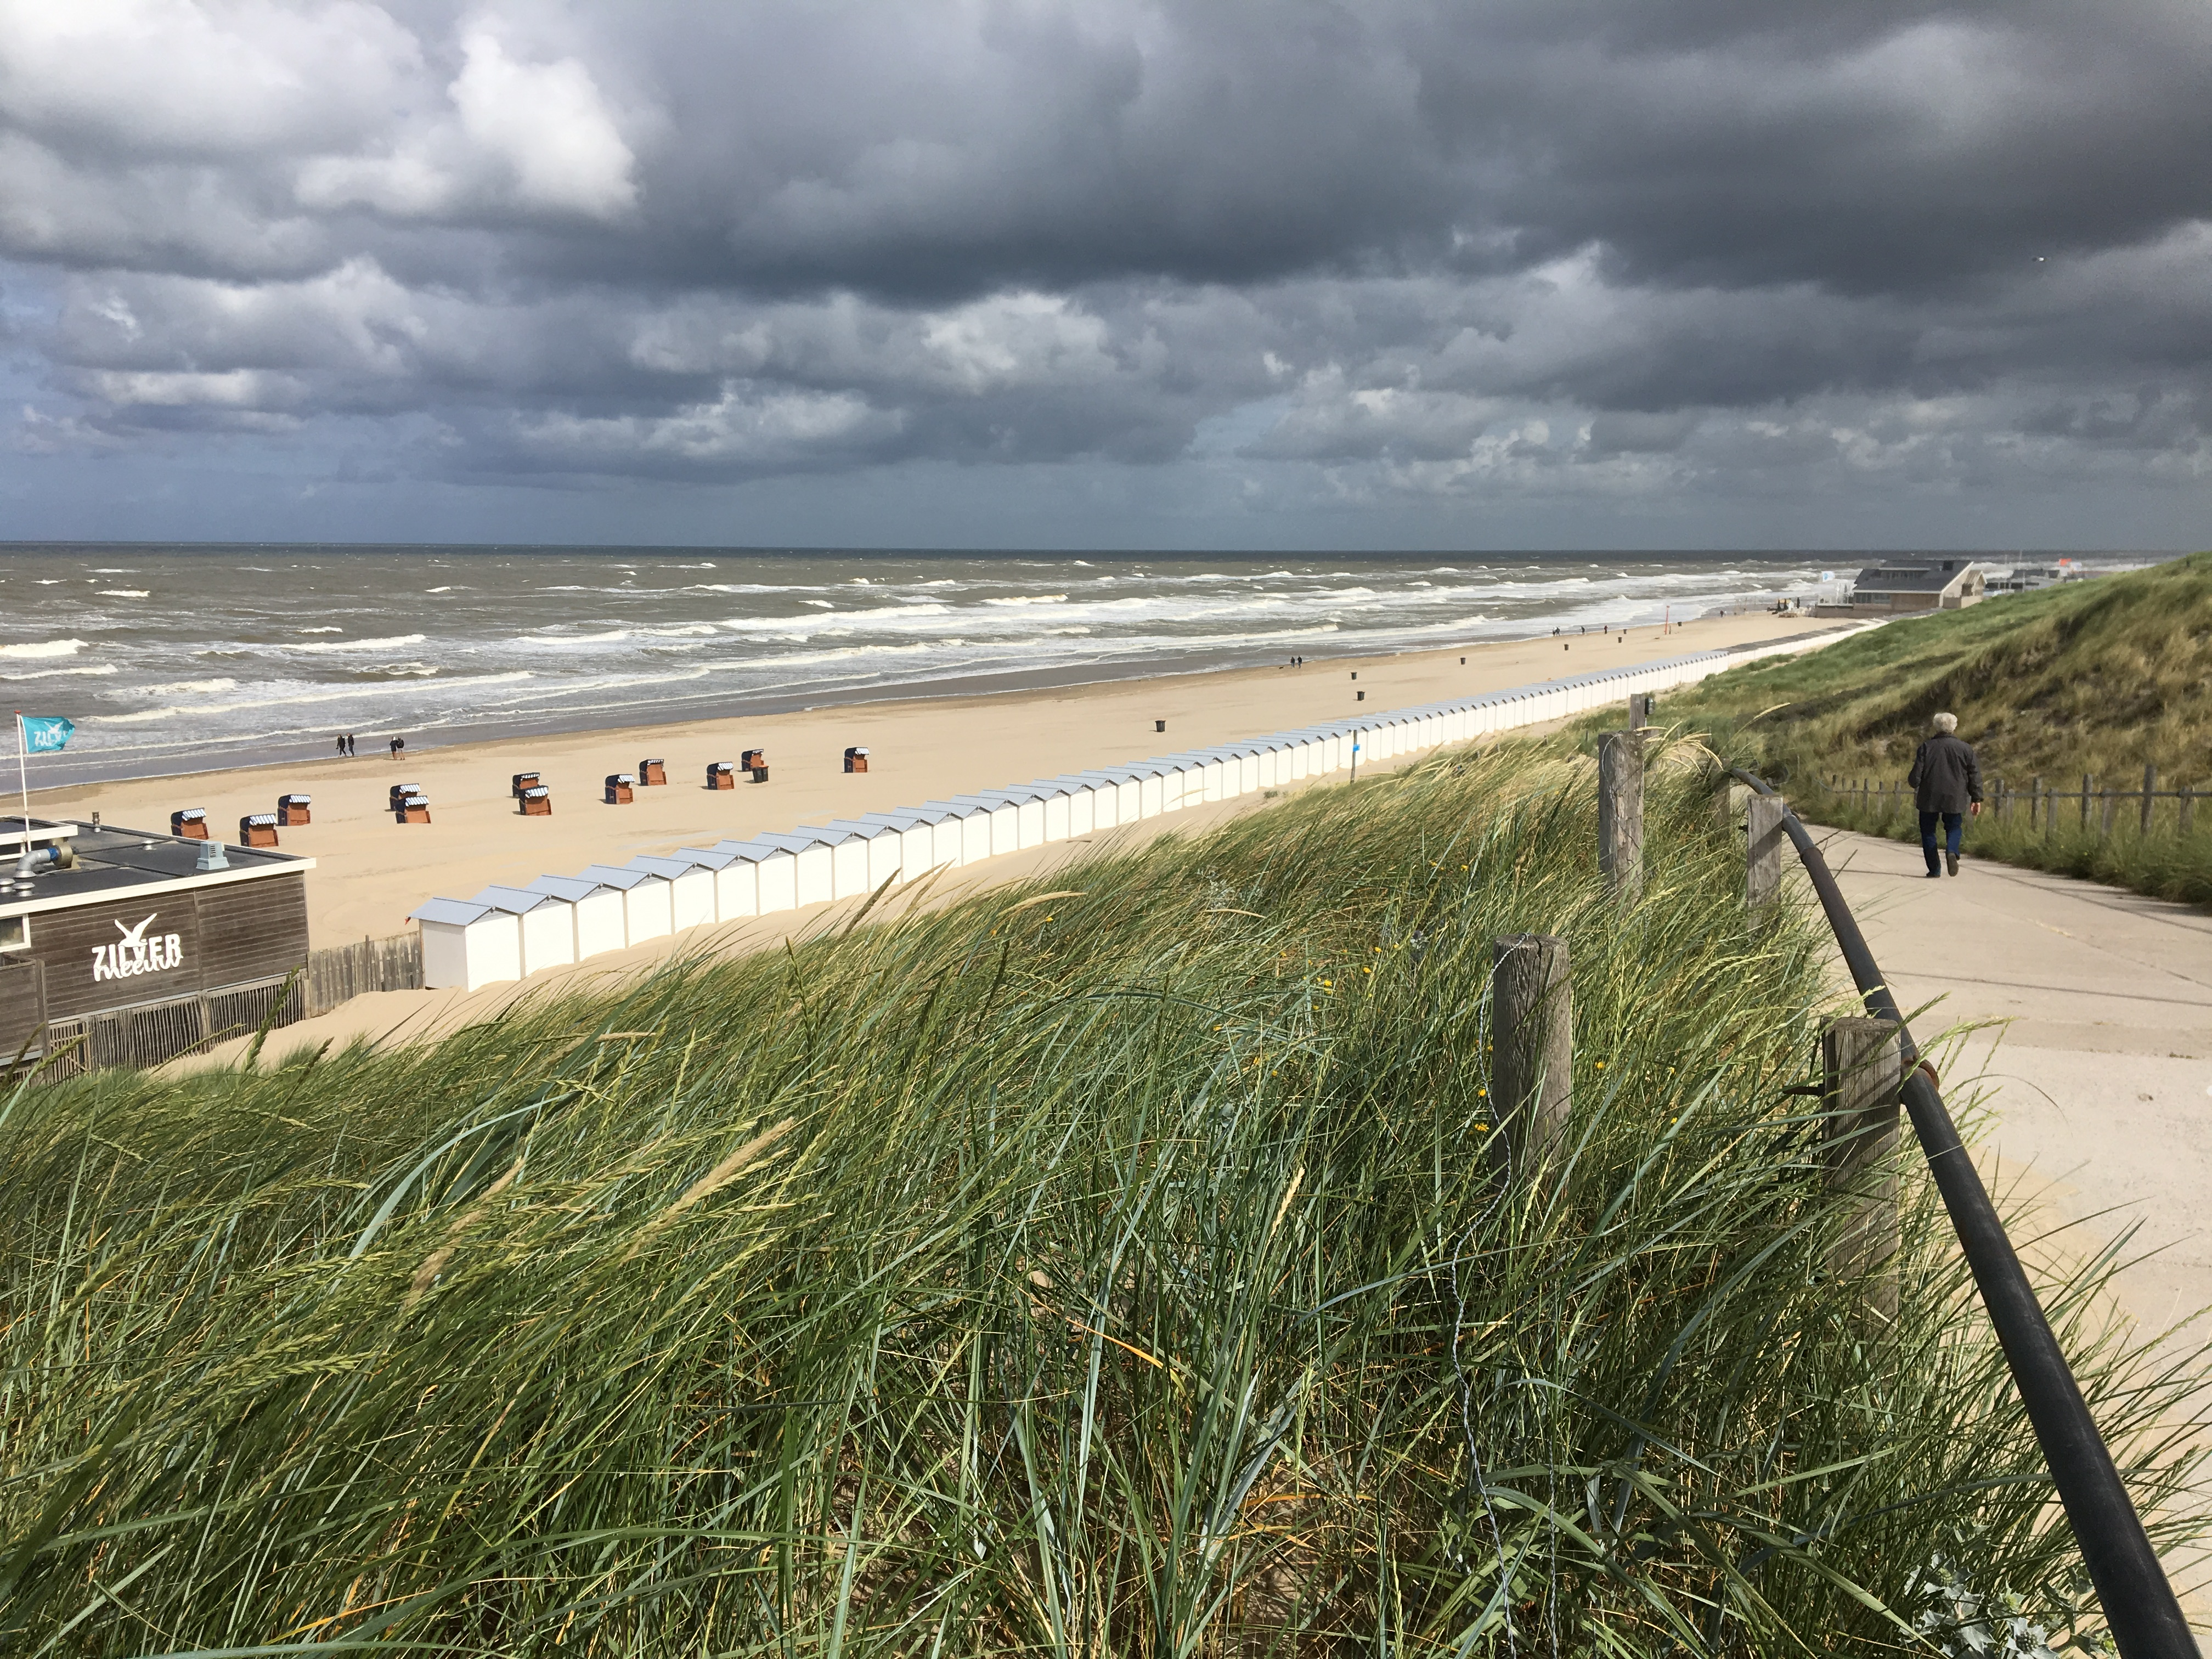pad: (1710, 758, 2212, 1600)
